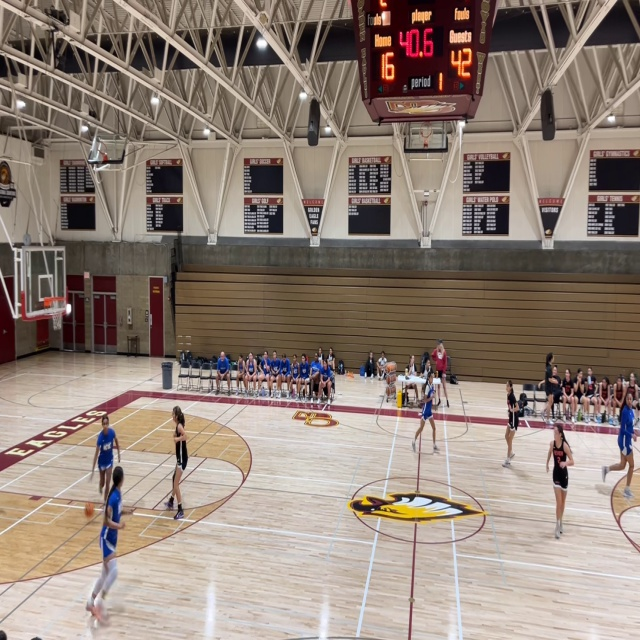Basketball: (85, 502, 94, 518)
